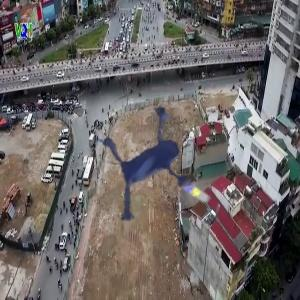drone: (76, 92, 245, 261)
